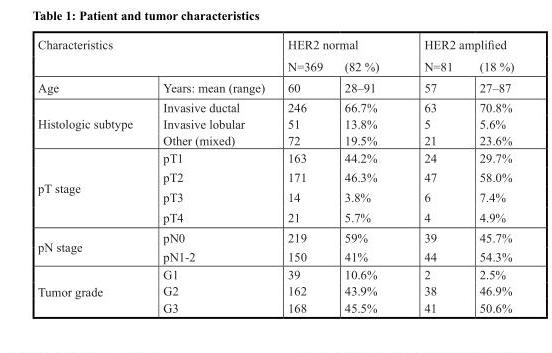table: (37, 37, 513, 314)
table column: (147, 37, 275, 314), (37, 37, 147, 314), (333, 37, 400, 314), (400, 37, 465, 314), (275, 37, 333, 314), (465, 37, 513, 314)
table column header: (37, 37, 513, 76)
table row: (37, 54, 513, 76), (37, 76, 513, 97), (37, 206, 513, 227), (37, 186, 513, 206), (37, 148, 513, 167), (37, 167, 513, 186), (37, 227, 513, 246), (37, 246, 513, 265), (37, 97, 513, 115), (37, 37, 513, 54), (37, 131, 513, 148), (37, 265, 513, 282), (37, 115, 513, 131), (37, 282, 513, 298), (37, 298, 513, 314)
table spanning cell: (37, 148, 147, 227), (37, 97, 147, 148), (37, 265, 147, 314), (37, 227, 147, 265), (37, 37, 275, 54), (275, 37, 400, 54), (400, 37, 513, 54)
